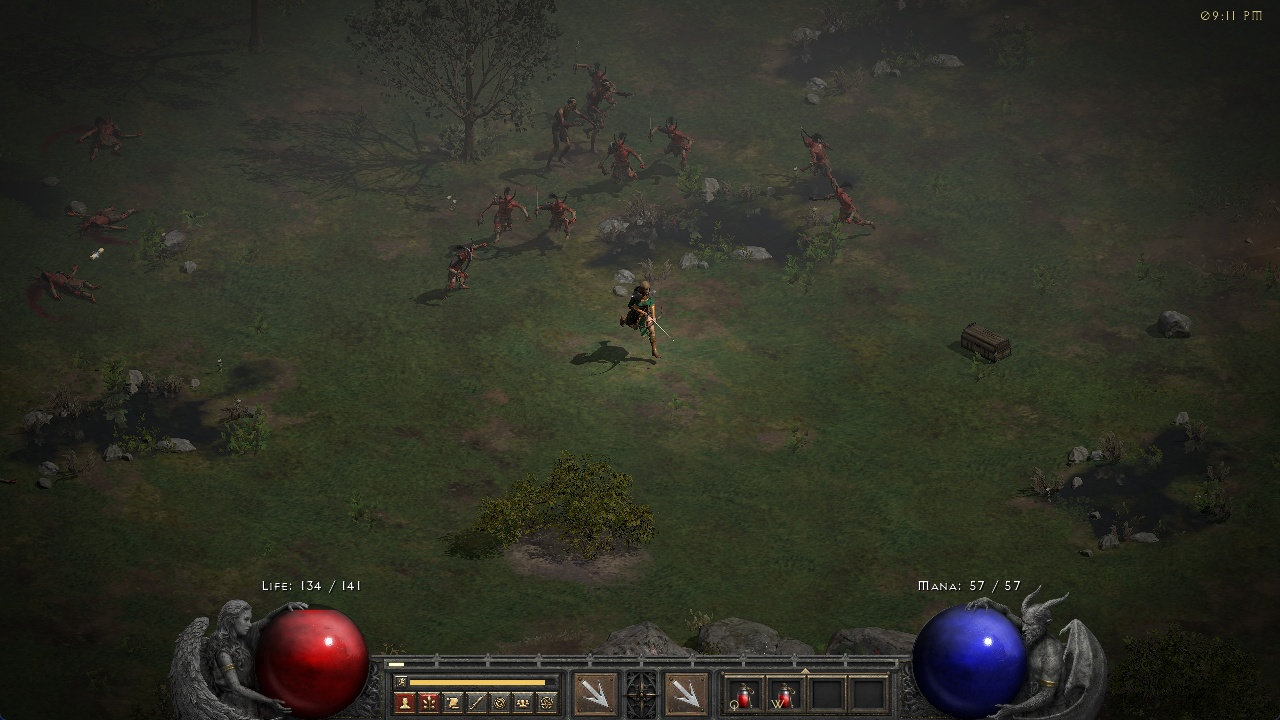fallen: (473, 192, 538, 245), (443, 239, 498, 298), (593, 136, 651, 188), (821, 184, 879, 230), (655, 119, 708, 168), (541, 191, 589, 241), (792, 126, 852, 166), (578, 66, 629, 102)
